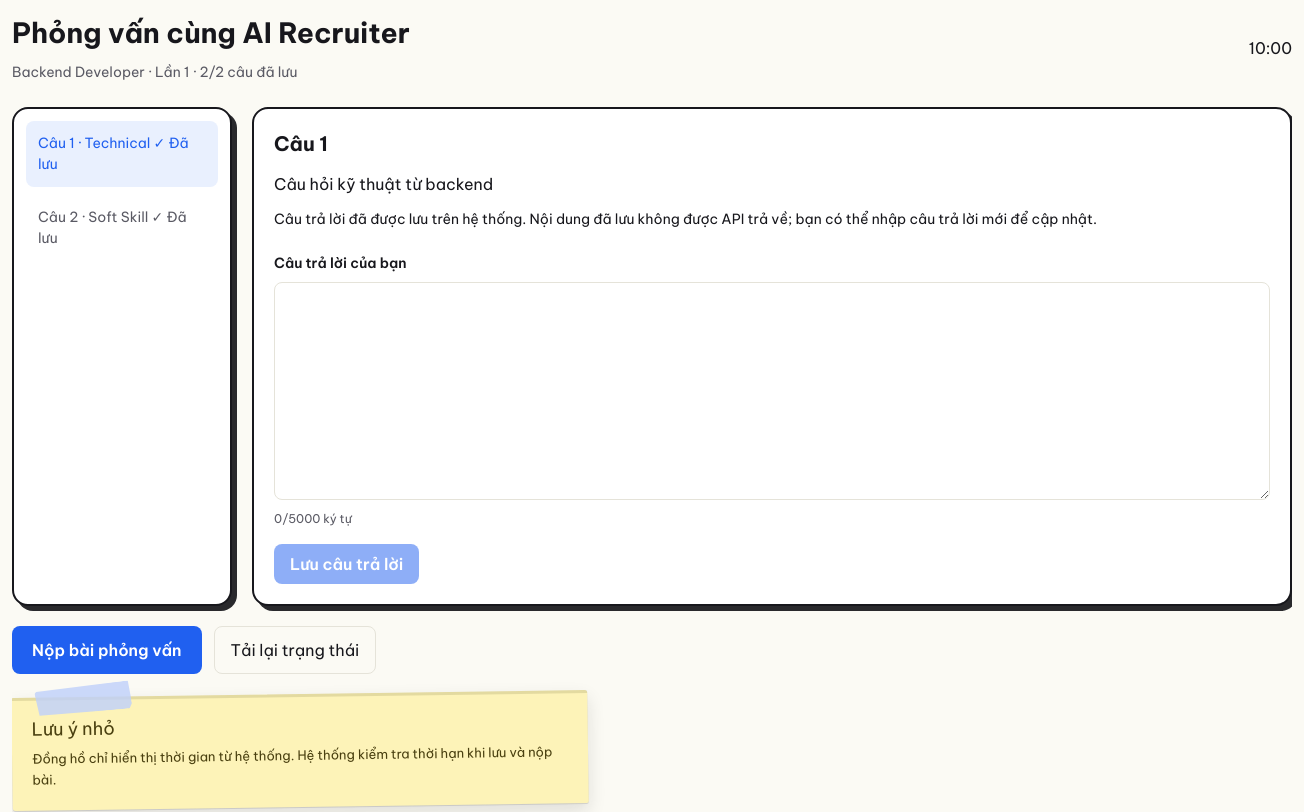
Nest recruitment integration › unavailable AI returns notice, never fabricated score
expect the text "Câu hỏi kỹ thuật từ backend" is shown: met, box [274,174,493,194]
Click the button "Nộp bài phỏng vấn" at {"x": 107, "y": 650}, box [12,626,202,674]
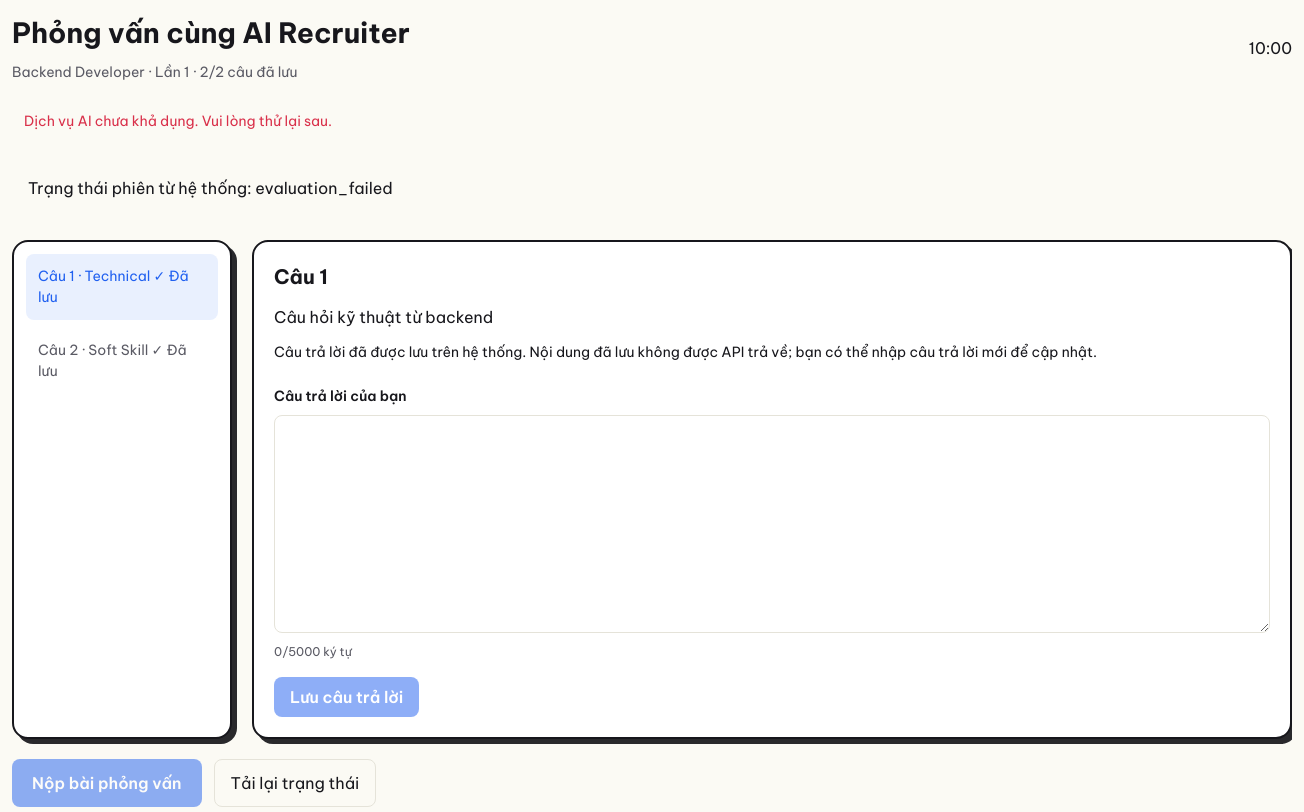
expect the message "Dịch vụ AI chưa khả dụng. Vui lòng thử lại sau." is shown: met, box [24,112,332,130]
